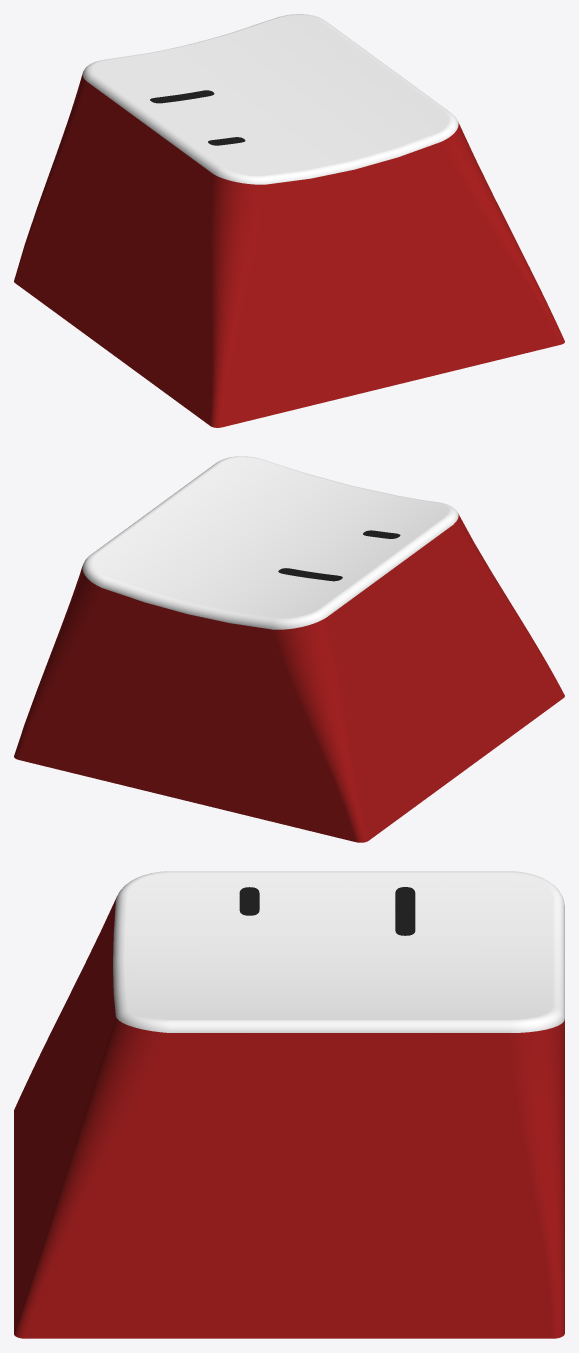
3 renders of one model, top to bottom at view 1: azimuth 30°, elevation 25°; view 2: azimuth 150°, elevation 25°; view 3: azimuth 270°, elevation 25°, orthographic. The views are drawn at different scales.
Parts seen in each view (by area): view 1: Body1; view 2: Body1; view 3: Body1.
Boxes of the visible parts, box(x1,y1,x2,y2) form: Body1: box(14, 14, 564, 427); Body1: box(14, 456, 564, 842); Body1: box(14, 871, 564, 1338).
Size of the model in its own units: 18 by 9.95 by 18.
